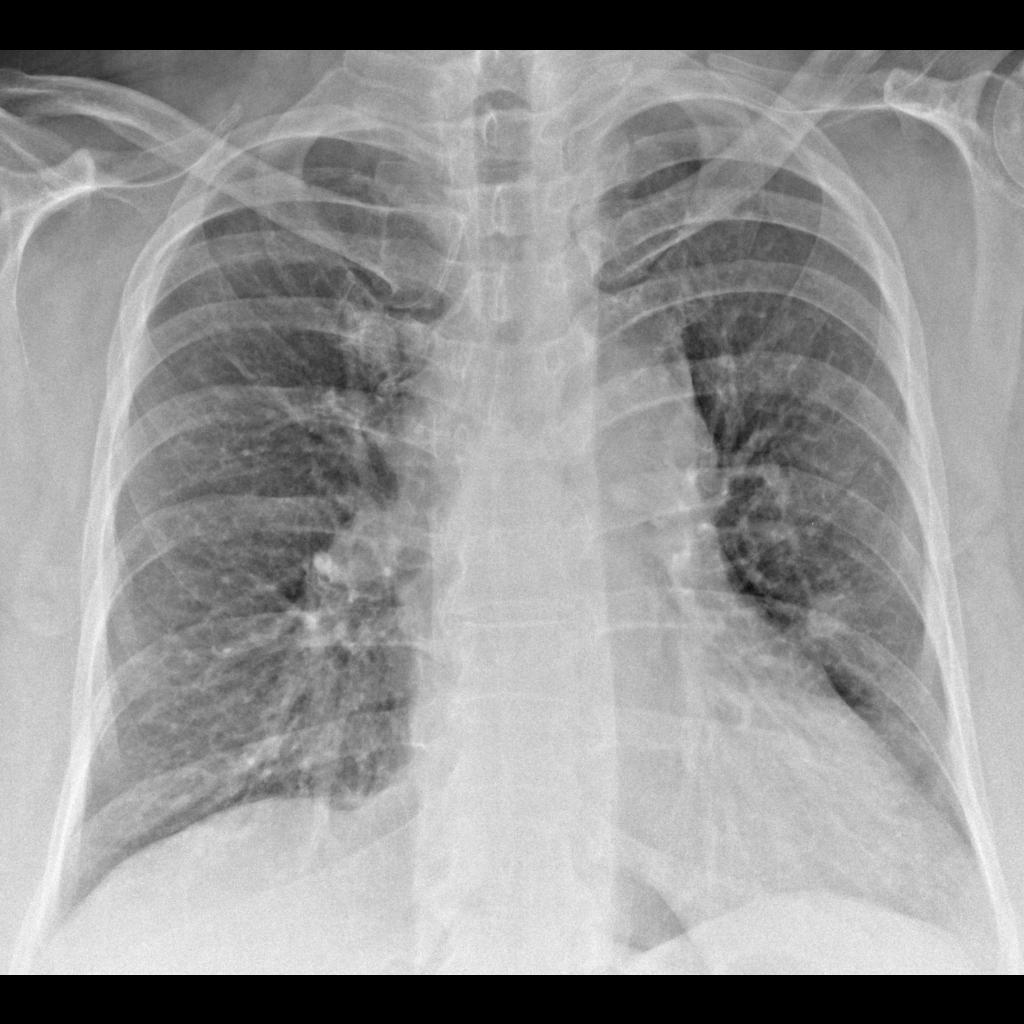Nodule: (794, 594, 851, 657)
